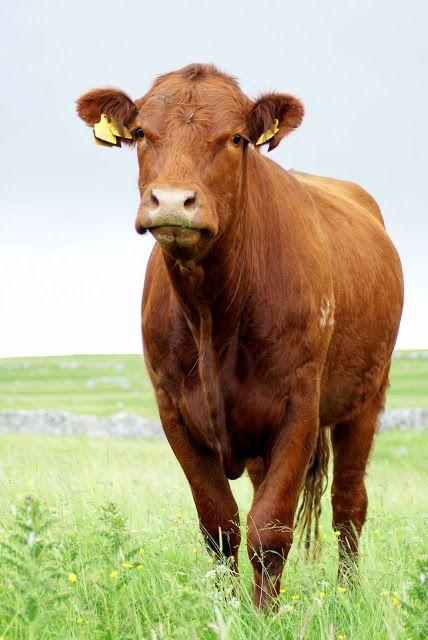cow: (48, 54, 428, 640)
